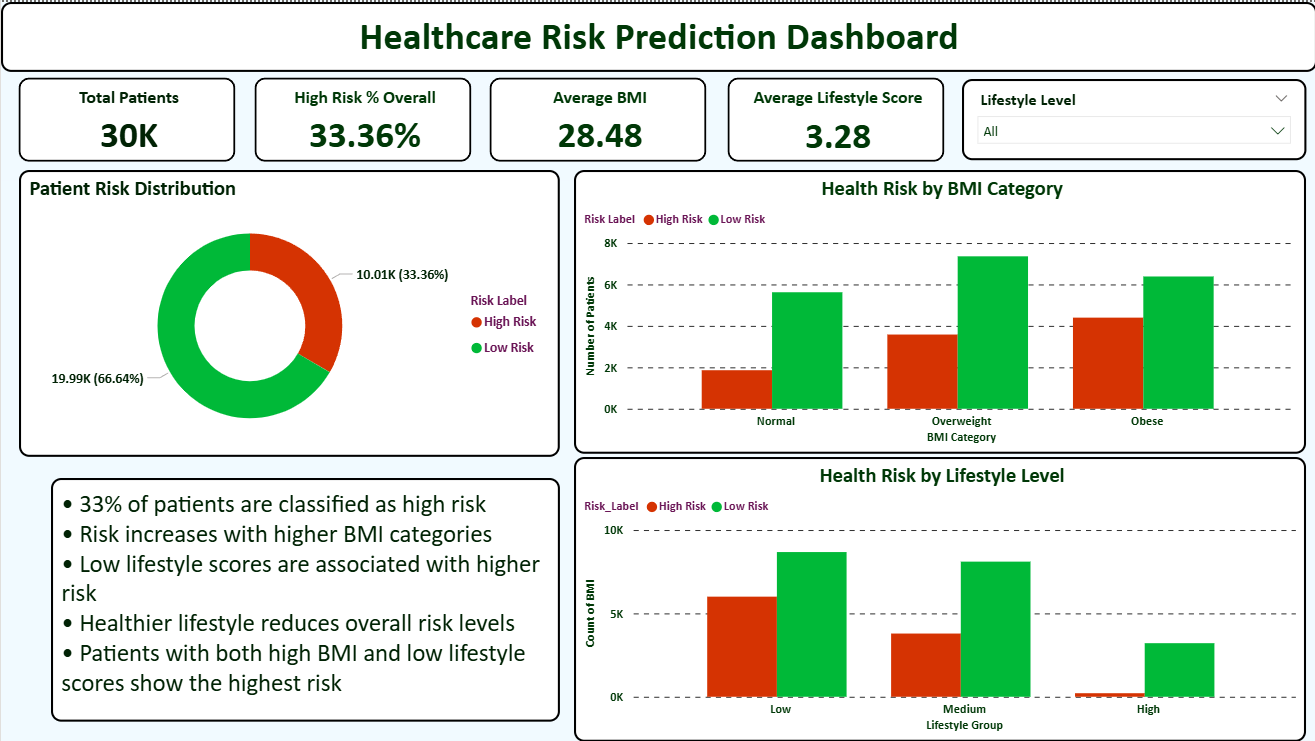

What the dashboard file says about the page in this screenshot:
{"tool":"powerbi","page":{"name":"Overview","canvas":[1280,720],"ordinal":0},"visuals":[{"type":"cardVisual","fields":{"Data":["healthcare_cleaned.High Risk %"]},"box":[229.5,56.4,245.1,116.7],"z":0},{"type":"cardVisual","fields":{"Data":["healthcare_cleaned.Total Patients"]},"box":[0,56.4,245.1,116.7],"z":1000},{"type":"cardVisual","fields":{"Data":["Avg(healthcare_cleaned.BMI)"]},"box":[458.1,56.4,245.1,116.7],"z":2000},{"type":"cardVisual","title":"Average Lifestyle Score","fields":{"Data":["Avg(healthcare_cleaned.Lifestyle_Score)"]},"box":[689.6,56.4,245.1,116.7],"z":3000},{"type":"clusteredColumnChart","title":"Health Risk by BMI Category","fields":{"Y":["CountNonNull(healthcare_cleaned.BMI)"],"Series":["healthcare_cleaned.Risk_Label"],"Category":["healthcare_cleaned.BMI_Category"]},"box":[557.3,163.4,712,276.2],"z":4000},{"type":"textbox","box":[0,0,1280,68.1],"z":5000},{"type":"donutChart","title":"Patient Risk Distribution","fields":{"Category":["healthcare_cleaned.Risk_Label"],"Y":["CountNonNull(healthcare_cleaned.BMI_Category)"]},"box":[17.5,163.4,526.2,279.1],"z":6000},{"type":"clusteredColumnChart","title":"Health Risk by Lifestyle Level","fields":{"Y":["CountNonNull(healthcare_cleaned.BMI)"],"Series":["healthcare_cleaned.Risk_Label"],"Category":["healthcare_cleaned.Lifestyle Group"]},"box":[557.3,442.6,712,277.2],"z":7000},{"type":"textbox","box":[48.6,463,495.1,237.3],"z":8000},{"type":"slicer","fields":{"Values":["healthcare_cleaned.Lifestyle Group"]},"box":[934.7,74.9,334.6,78.8],"z":9000}]}

Visuals, with their boxes in screenshot pixels (x1, y1, x2, y2), scaled from the page's 1280x720 canvas onto the 1315x741 screenshot:
cardVisual - healthcare_cleaned.High Risk %: crop(236, 58, 488, 178)
cardVisual - healthcare_cleaned.Total Patients: crop(0, 58, 252, 178)
cardVisual - Avg(healthcare_cleaned.BMI): crop(471, 58, 722, 178)
"Average Lifestyle Score" cardVisual: crop(708, 58, 960, 178)
"Health Risk by BMI Category" clusteredColumnChart: crop(573, 168, 1304, 452)
textbox: crop(0, 0, 1314, 70)
"Patient Risk Distribution" donutChart: crop(18, 168, 559, 455)
"Health Risk by Lifestyle Level" clusteredColumnChart: crop(573, 456, 1304, 740)
textbox: crop(50, 477, 559, 721)
slicer - healthcare_cleaned.Lifestyle Group: crop(960, 77, 1304, 158)
